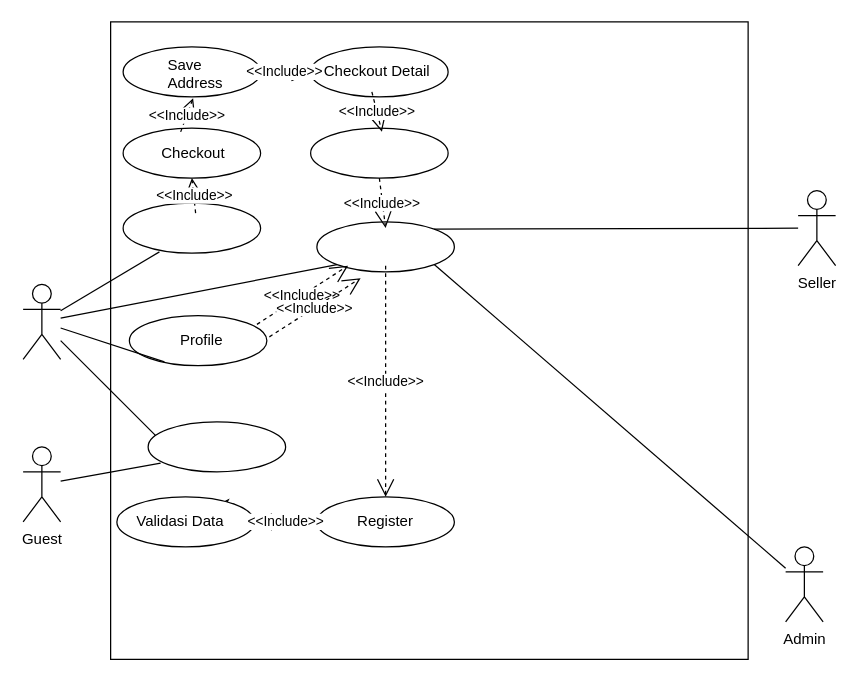
Image size: 858x681. Some labels were removed from this diagram. Here are the shapes that lost their labels. From the top down, the centre of each, then its label:
At [378,152]: "Payment".
At [191,227]: "Add to Cart".
At [385,246]: "Login".
At [41,321]: "User".
At [216,446]: "Choose a Product".
